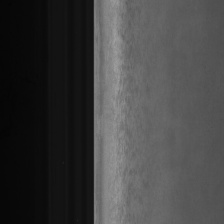silk_spot: (116, 27, 144, 210)
